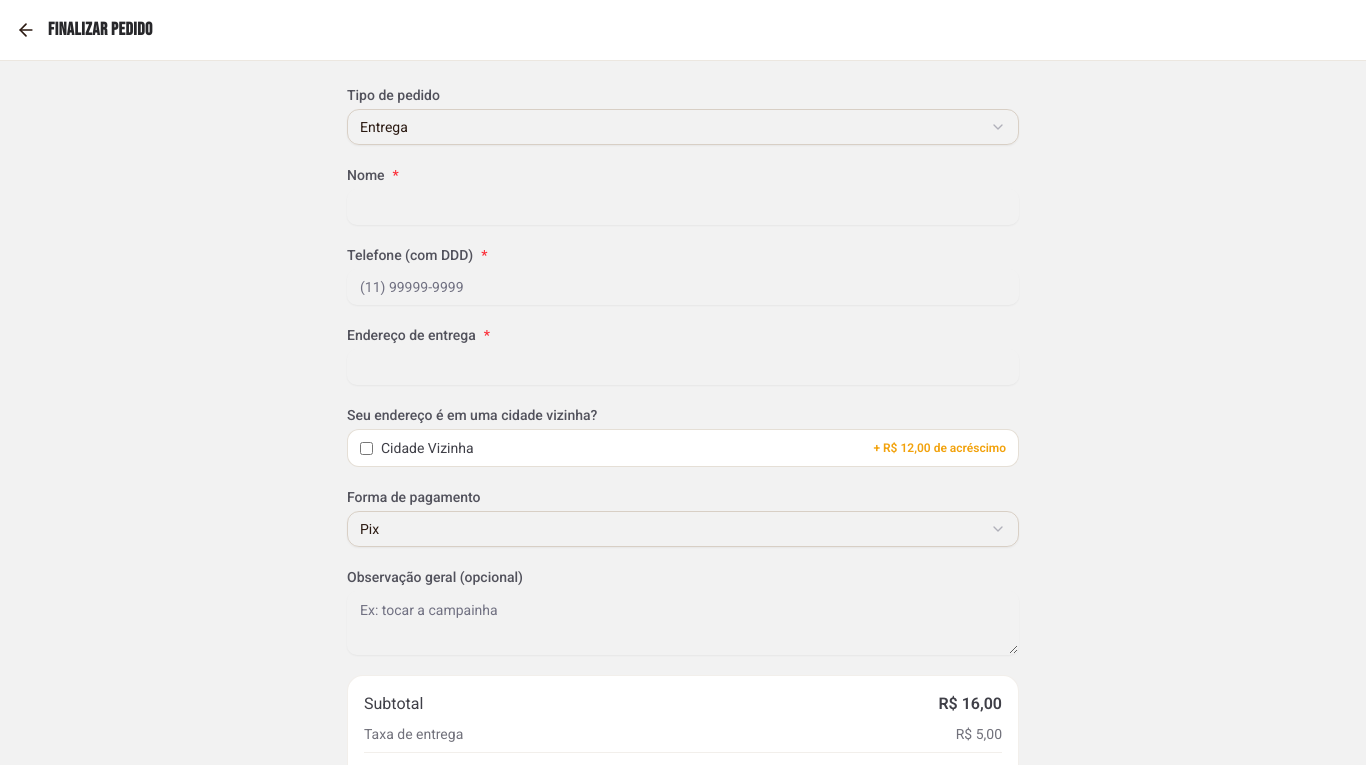
Scenario: CheckoutForm › overrides the flat delivery fee with the selected city's fee and shows the surcharge legend
Expected: the text "Taxa de entrega" is shown, top-left (364, 724), bottom-right (463, 744)
Click the text "Cidade Vizinha".
click(417, 448)  # box top-left (360, 438), bottom-right (474, 458)
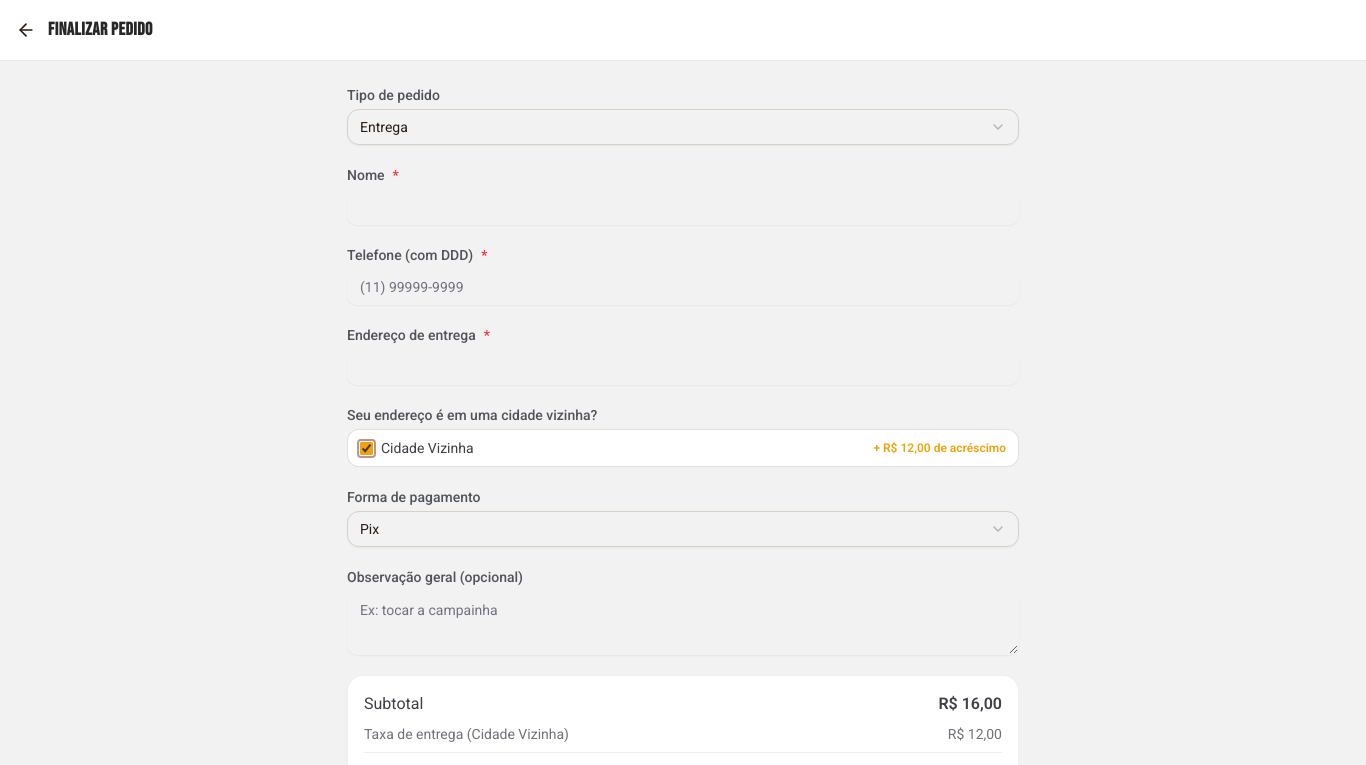
Expected: the text "+ R$ 12,00 de acréscimo" is shown, top-left (873, 440), bottom-right (1006, 456)
Result: the text "Taxa de entrega (Cidade Vizinha)" is shown at top-left (364, 724), bottom-right (569, 744)
